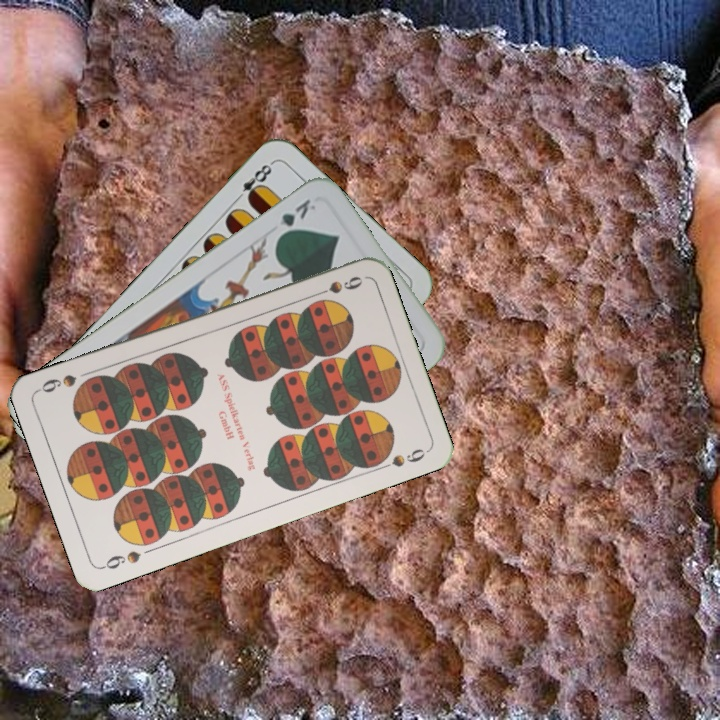E8: (230, 158, 276, 205)
GK: (272, 194, 319, 242)
S9: (308, 272, 366, 300), (98, 546, 144, 572)
